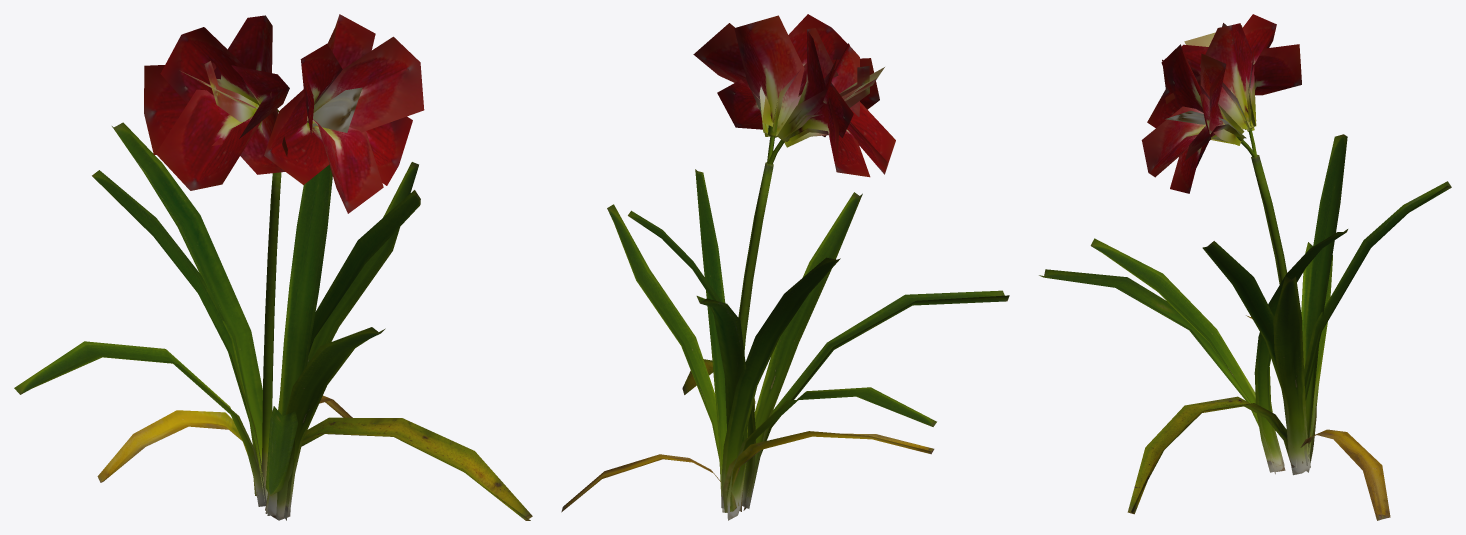
Rendered from Amaryllis_OG_normal_red.glb.
The picture shows the model from 3 angles, left to right: view 1: azimuth 30°, elevation 25°; view 2: azimuth 150°, elevation 25°; view 3: azimuth 270°, elevation 25°; orthographic projection. The views are drawn at different scales.
Visible parts, largest first — view 1: og; view 2: og; view 3: og.
Part boxes in pixels (x1,y1,x2,y2): og: [14, 14, 532, 520]; og: [561, 14, 1009, 520]; og: [1039, 14, 1451, 520].
Bounding box in the file's own units: 1.36 × 1.74 × 1.51.
1 material, 1 textured.
